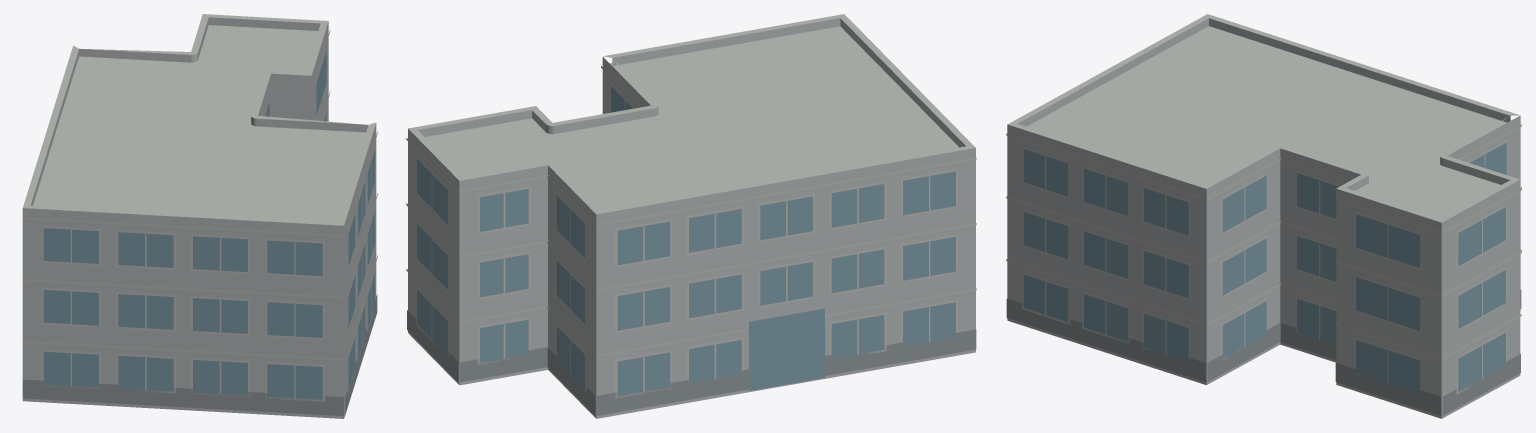
Rendered from public-20b767f4-8bbb-4be5-8622-e90fca378375.glb.
3 views of the same model, side by side, from view 1: azimuth 30°, elevation 25°; view 2: azimuth 150°, elevation 25°; view 3: azimuth 270°, elevation 25° (orthographic). The views are drawn at different scales.
Parts seen in each view (by area): view 1: public-20b767f4-8bbb-4be5-8622-e90fca378375; view 2: public-20b767f4-8bbb-4be5-8622-e90fca378375; view 3: public-20b767f4-8bbb-4be5-8622-e90fca378375.
Part boxes in pixels (x1,y1,x2,y2): public-20b767f4-8bbb-4be5-8622-e90fca378375: [22, 14, 377, 418]; public-20b767f4-8bbb-4be5-8622-e90fca378375: [406, 14, 976, 418]; public-20b767f4-8bbb-4be5-8622-e90fca378375: [1006, 14, 1521, 418].
Bounding box in the file's own units: 20.99 × 9.15 × 21.8.
